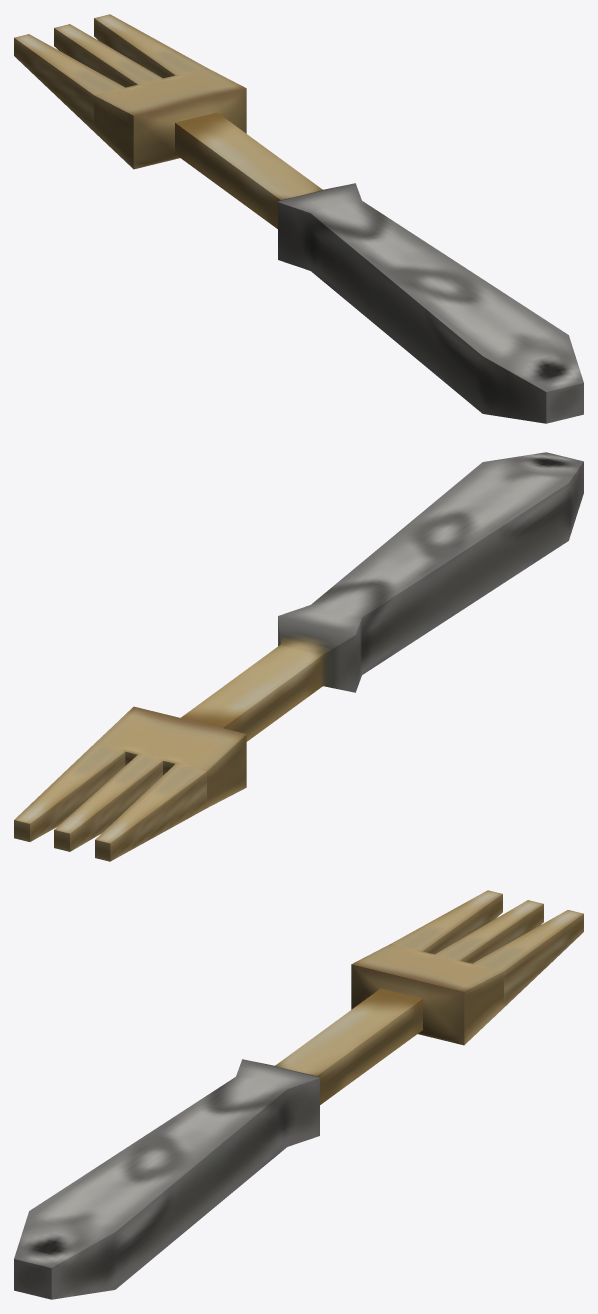
File: luxury_cutlery_02.fbx
3 renders of one model, top to bottom at view 1: azimuth 30°, elevation 25°; view 2: azimuth 150°, elevation 25°; view 3: azimuth 330°, elevation 25°, orthographic.
Parts seen in each view (by area): view 1: luxury_cutlery_02; view 2: luxury_cutlery_02; view 3: luxury_cutlery_02.
Boxes of the visible parts, x1,y1,x2,y2 form: luxury_cutlery_02: (14, 14, 583, 423); luxury_cutlery_02: (14, 452, 583, 861); luxury_cutlery_02: (14, 890, 583, 1299).
Bounding box in the file's own units: 3.6 × 1.76 × 27.81.
